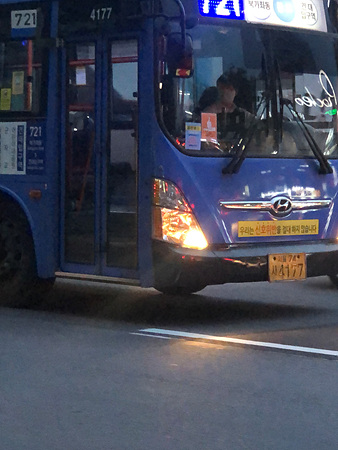entrance: (61, 34, 146, 277)
